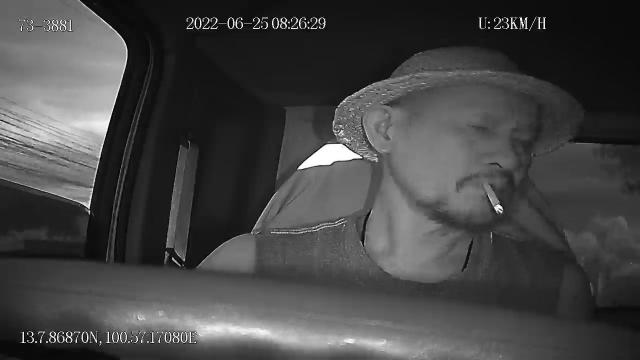Cigarette: (480, 176, 502, 216)
